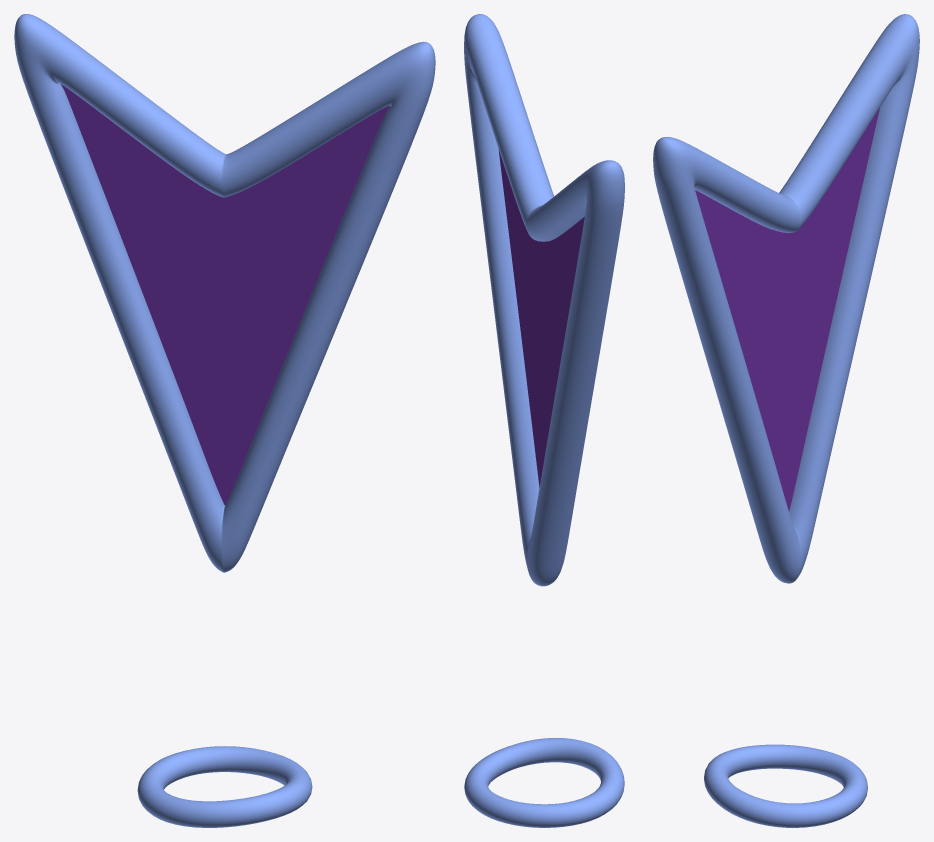
File: arrow_purple.obj
The picture shows the model from 3 angles, left to right: view 1: azimuth 30°, elevation 25°; view 2: azimuth 150°, elevation 25°; view 3: azimuth 270°, elevation 25°; orthographic projection. The views are drawn at different scales.
Parts seen in each view (by area): view 1: arrow; view 2: arrow; view 3: arrow.
Boxes of the visible parts, bbox=[...] form: arrow: bbox=[14, 14, 435, 827]; arrow: bbox=[464, 14, 624, 827]; arrow: bbox=[653, 14, 919, 827].
Size of the model in its own units: 0.7385 by 1.86 by 0.6229.
1 material, 1 textured.
